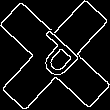P_SE: (24, 25, 86, 85)
